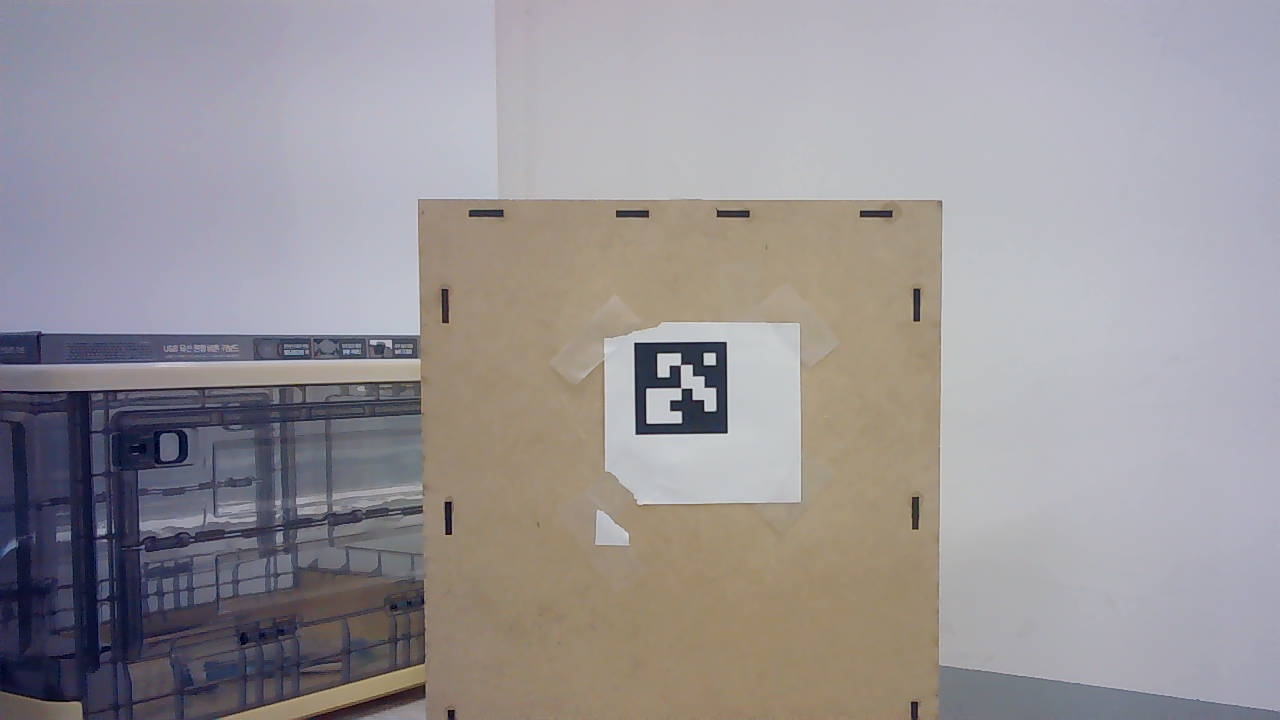aruco: (591, 318, 815, 510)
